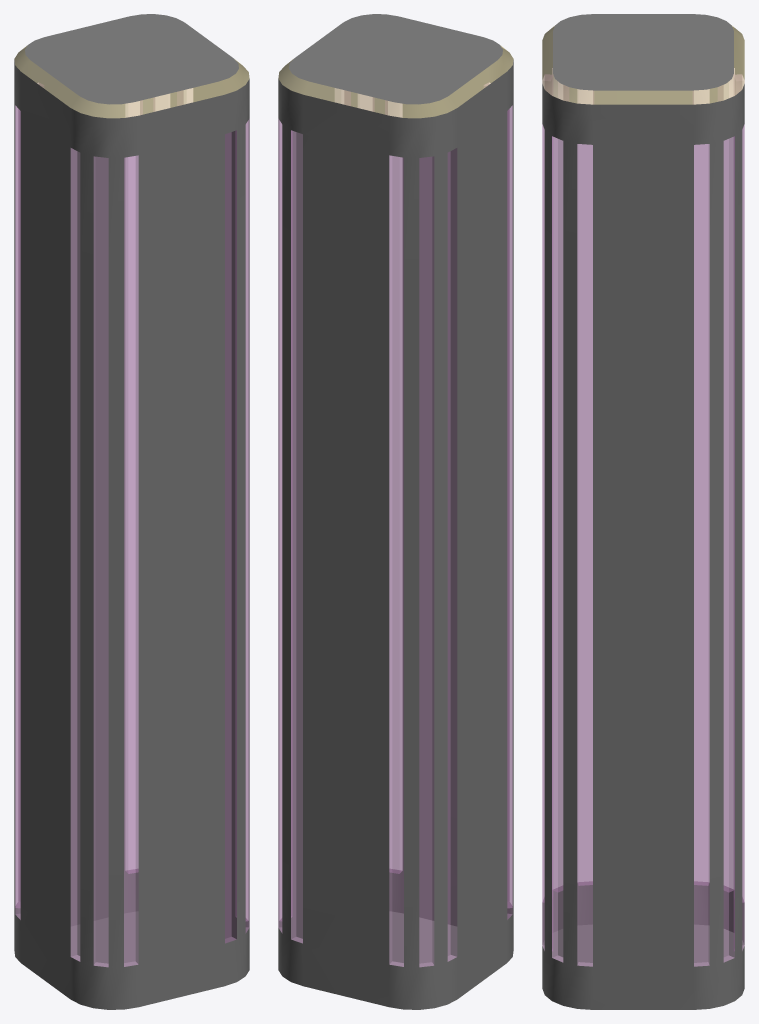
File: Smooth Building.fbx
The picture shows the model from 3 angles, left to right: view 1: azimuth 30°, elevation 25°; view 2: azimuth 150°, elevation 25°; view 3: azimuth 270°, elevation 25°; orthographic projection.
Visible parts, largest first — view 1: Smooth_Tower; view 2: Smooth_Tower; view 3: Smooth_Tower.
Part boxes in pixels (x1=…): Smooth_Tower: x1=14, y1=14, x2=249, y2=1009; Smooth_Tower: x1=278, y1=14, x2=513, y2=1009; Smooth_Tower: x1=542, y1=14, x2=744, y2=1009.
Size of the model in its own units: 23.34 by 116 by 23.34.
